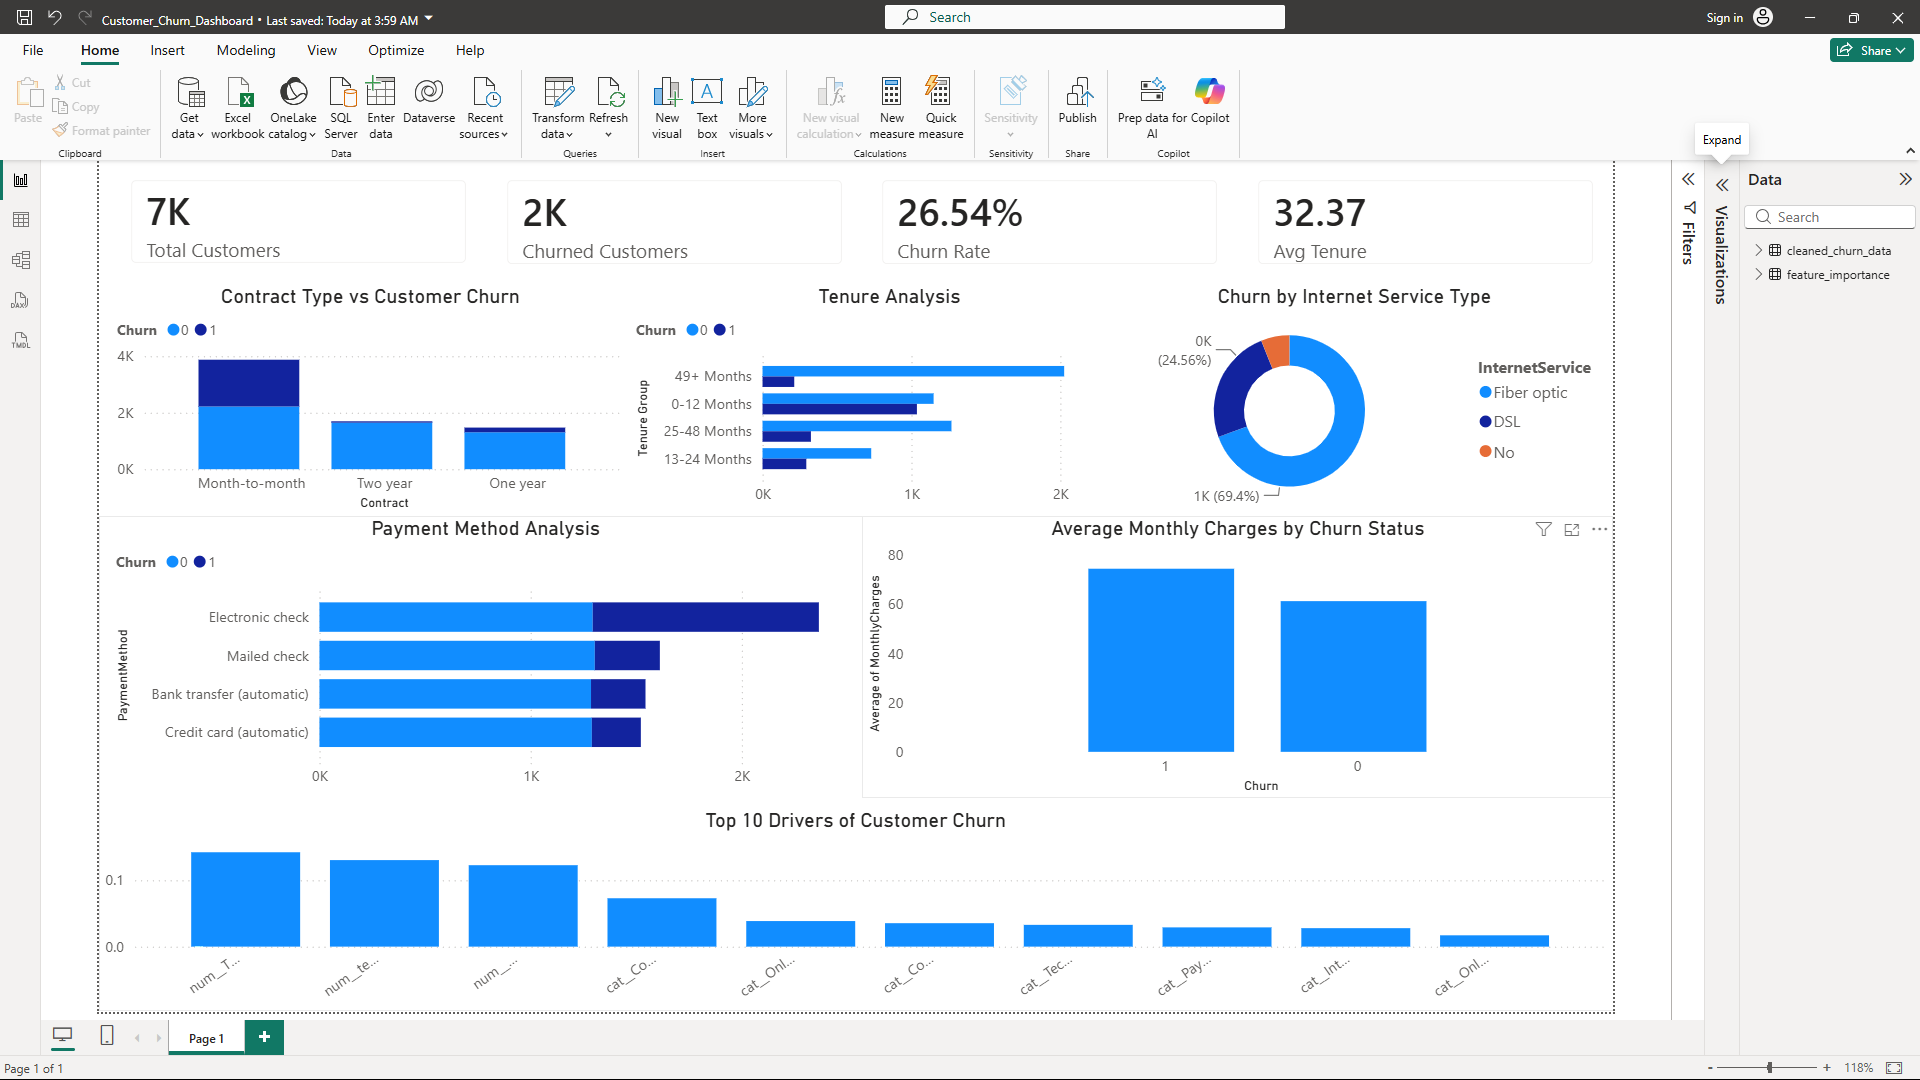

The page's visual inventory and layout, read from the dashboard file:
{"tool":"powerbi","page":{"name":"Page 1","canvas":[1280,720],"ordinal":0},"visuals":[{"type":"group","id":"g1","title":"Group 1","box":[9.7,0,1270.3,105],"z":0},{"type":"cardVisual","fields":{"Data":["cleaned_churn_data.Total Customers"]},"box":[9.7,0,317.5,105],"z":0,"group":"g1"},{"type":"barChart","title":"Payment Method Analysis","fields":{"Category":["cleaned_churn_data.PaymentMethod"],"Y":["CountNonNull(cleaned_churn_data.PaymentMethod)"],"Series":["cleaned_churn_data.Churn"]},"box":[9.8,300.5,635.1,238.3],"z":0,"group":"g3"},{"type":"cardVisual","fields":{"Data":["cleaned_churn_data.Churned Customers"]},"box":[327,0,317.6,105],"z":1000,"group":"g1"},{"type":"group","id":"g2","title":"Group 2","box":[9.7,105,1270.3,195.5],"z":1000},{"type":"columnChart","title":"Contract Type vs Customer Churn","fields":{"Category":["cleaned_churn_data.Contract"],"Y":["CountNonNull(cleaned_churn_data.Contract)"],"Series":["cleaned_churn_data.Churn"]},"box":[9.7,105,438.5,195.5],"z":1000,"group":"g2"},{"type":"columnChart","title":"Average Monthly Charges by Churn Status","fields":{"Y":["Avg(cleaned_churn_data.MonthlyCharges)"],"Category":["cleaned_churn_data.Churn"]},"box":[644.9,300.5,635.1,238.3],"z":1000,"group":"g3"},{"type":"cardVisual","fields":{"Data":["cleaned_churn_data.Churn Rate"]},"box":[644.7,0,317.6,105],"z":2000,"group":"g1"},{"type":"clusteredBarChart","title":"Tenure Analysis","fields":{"Category":["cleaned_churn_data.Tenure Group"],"Y":["CountNonNull(cleaned_churn_data.Tenure Group)"],"Series":["cleaned_churn_data.Churn"]},"box":[448.2,105,438.5,195.5],"z":2000,"group":"g2"},{"type":"group","id":"g3","title":"Group 3","box":[0.3,300.5,1279.7,418.7],"z":2000},{"type":"columnChart","title":"Top 10 Drivers of Customer Churn","fields":{"Category":["feature_importance.Feature"],"Y":["Sum(feature_importance.Importance)"]},"box":[0.3,547,1279,172.2],"z":2001,"group":"g3"},{"type":"cardVisual","fields":{"Data":["cleaned_churn_data.Avg Tenure"]},"box":[962.3,0,317.6,105],"z":3000,"group":"g1"},{"type":"donutChart","title":"Churn by Internet Service Type","fields":{"Category":["cleaned_churn_data.InternetService"],"Y":["cleaned_churn_data.Total Customers"]},"box":[841.4,105,438.5,195.5],"z":3000,"group":"g2"}]}

Visuals, with their boxes on the page's 1280x720 design canvas (x1, y1, x2, y2). These are canvas units, not pixel positions in the 1920x1080 screenshot, which may show the page scaled, cropped or inside an application window:
"Group 1" group: <box>10,0,1280,105</box>
cardVisual - cleaned_churn_data.Total Customers: <box>10,0,327,105</box>
"Payment Method Analysis" barChart: <box>10,300,645,539</box>
cardVisual - cleaned_churn_data.Churned Customers: <box>327,0,645,105</box>
"Group 2" group: <box>10,105,1280,300</box>
"Contract Type vs Customer Churn" columnChart: <box>10,105,448,300</box>
"Average Monthly Charges by Churn Status" columnChart: <box>645,300,1280,539</box>
cardVisual - cleaned_churn_data.Churn Rate: <box>645,0,962,105</box>
"Tenure Analysis" clusteredBarChart: <box>448,105,887,300</box>
"Group 3" group: <box>0,300,1280,719</box>
"Top 10 Drivers of Customer Churn" columnChart: <box>0,547,1279,719</box>
cardVisual - cleaned_churn_data.Avg Tenure: <box>962,0,1280,105</box>
"Churn by Internet Service Type" donutChart: <box>841,105,1280,300</box>
